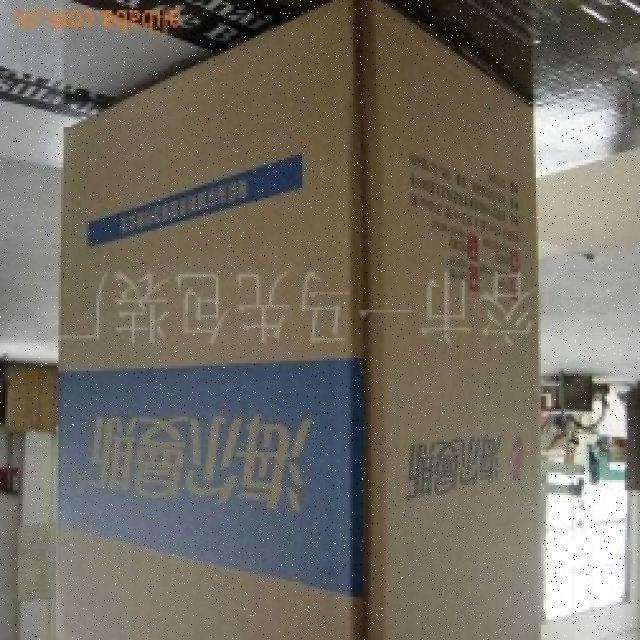box: (43, 0, 544, 640)
